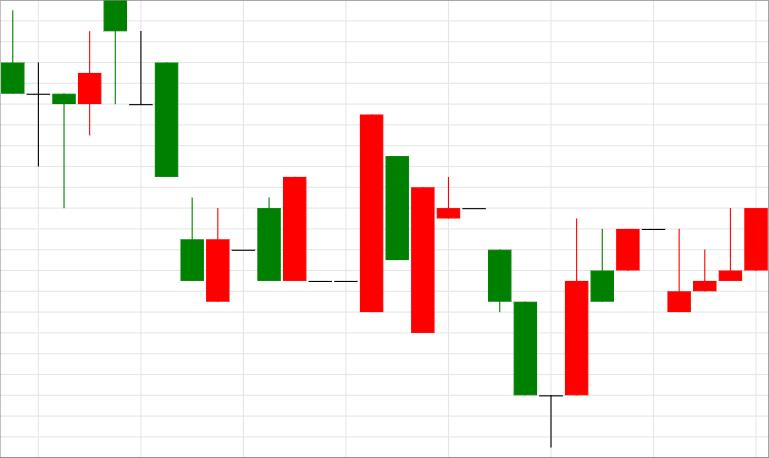hanging_man_fall: (26, 0, 128, 209)
morning_star_rise: (437, 176, 588, 448)
